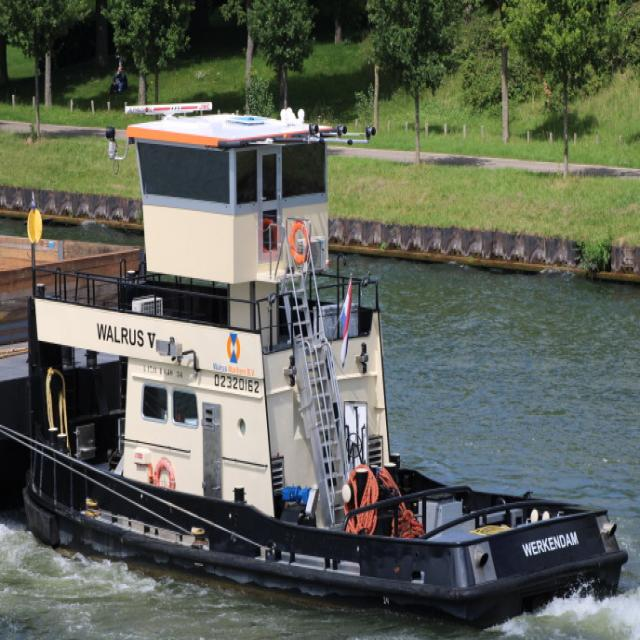tugboat: (17, 93, 633, 640)
